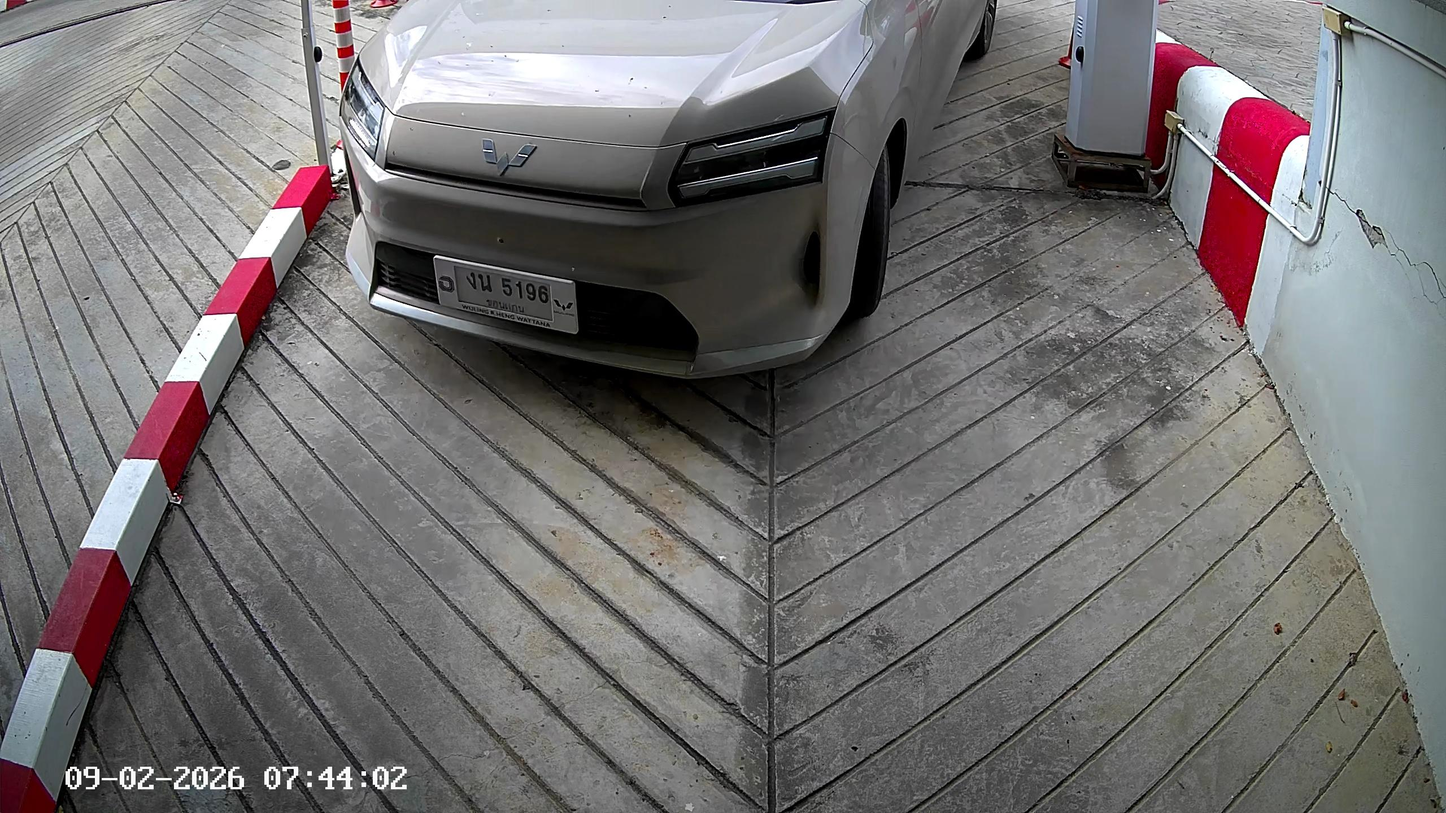car: (337, 0, 1001, 383)
license-plate: (430, 254, 581, 335)
